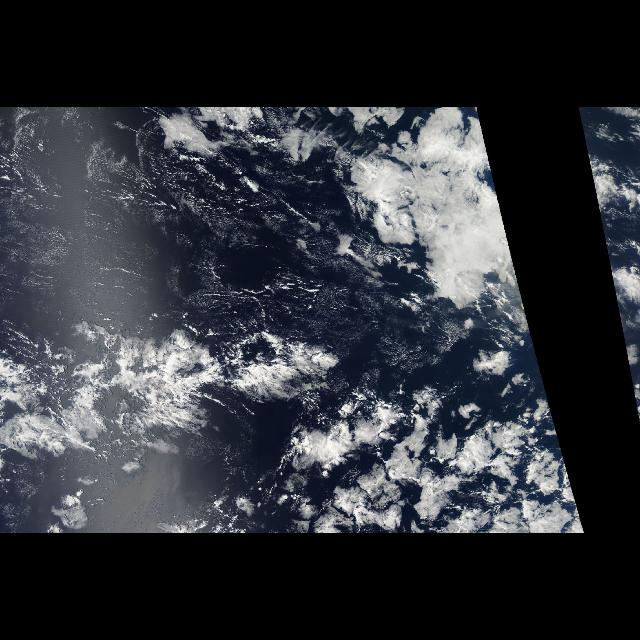Sugar: (8, 156, 344, 336), (263, 383, 581, 533)
